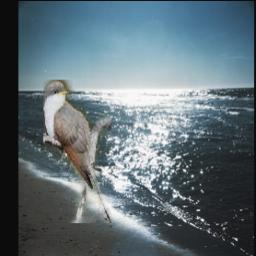Cuckoo: (43, 80, 111, 223)
